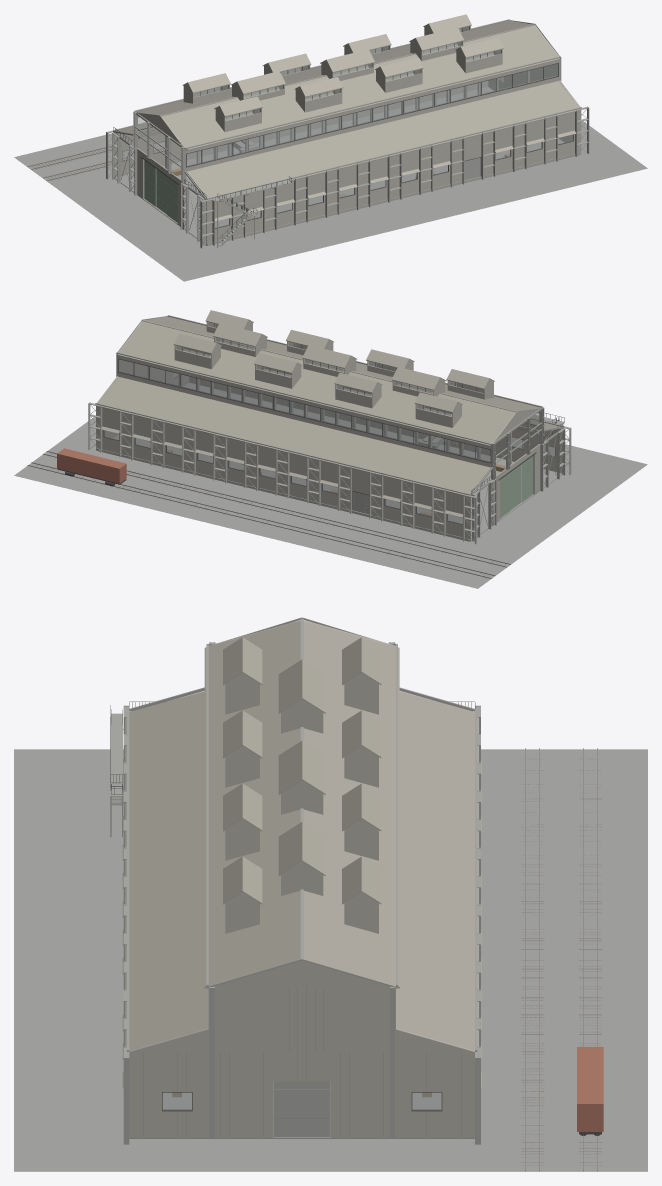
The model's file is clay-craneway-hall-clay-v004.glb.
The picture shows the model from 3 angles, top to bottom: view 1: azimuth 30°, elevation 25°; view 2: azimuth 150°, elevation 25°; view 3: azimuth 270°, elevation 25°; orthographic projection. The views are drawn at different scales.
Visible parts, largest first — view 1: CLAY_ROOF, CLAY_FOUNDATION, CLAY_WALL, CLAY_PALE, CLAY_GLASS, CLAY_TRIM, CLAY_GREEN, CLAY_RAIL, CLAY_STONE, CLAY_HARDWARE; view 2: CLAY_ROOF, CLAY_FOUNDATION, CLAY_WALL, CLAY_PALE, CLAY_GLASS, CLAY_RAIL, CLAY_TRIM, CLAY_CAR, CLAY_GREEN, CLAY_STONE; view 3: CLAY_FOUNDATION, CLAY_ROOF, CLAY_WALL, CLAY_PALE, CLAY_RAIL, CLAY_CAR, CLAY_JOINT, CLAY_GLASS.
Part boxes in pixels (<box>): CLAY_ROOF: <box>116,14,581,221</box>; CLAY_FOUNDATION: <box>14,77,647,281</box>; CLAY_WALL: <box>115,20,581,245</box>; CLAY_PALE: <box>106,19,589,248</box>; CLAY_GLASS: <box>122,26,572,227</box>; CLAY_TRIM: <box>122,28,573,228</box>; CLAY_GREEN: <box>144,160,177,222</box>; CLAY_RAIL: <box>27,76,555,180</box>; CLAY_STONE: <box>207,152,580,245</box>; CLAY_HARDWARE: <box>113,127,291,246</box>; CLAY_ROOF: <box>96,310,560,517</box>; CLAY_FOUNDATION: <box>14,373,647,588</box>; CLAY_WALL: <box>96,316,562,540</box>; CLAY_PALE: <box>88,315,571,544</box>; CLAY_GLASS: <box>104,322,554,523</box>; CLAY_RAIL: <box>27,371,538,578</box>; CLAY_TRIM: <box>103,323,555,524</box>; CLAY_CAR: <box>57,448,126,483</box>; CLAY_GREEN: <box>500,456,533,518</box>; CLAY_STONE: <box>96,448,469,541</box>; CLAY_FOUNDATION: <box>14,749,647,1171</box>; CLAY_ROOF: <box>122,621,481,1088</box>; CLAY_WALL: <box>129,620,474,1137</box>; CLAY_PALE: <box>110,617,480,1144</box>; CLAY_RAIL: <box>521,748,601,1171</box>; CLAY_CAR: <box>577,1047,603,1131</box>; CLAY_JOINT: <box>143,987,461,1137</box>; CLAY_GLASS: <box>162,1092,441,1109</box>.
Bounding box in the file's own units: 104 × 23.98 × 66.
